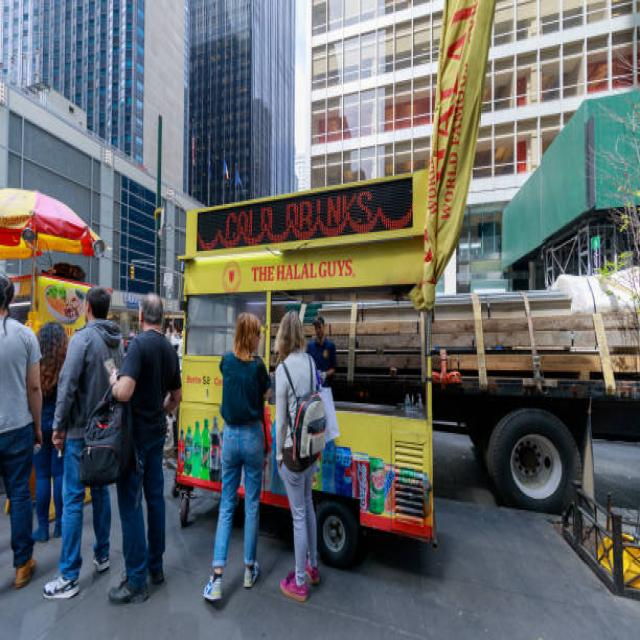Emperan: (155, 147, 451, 575)
